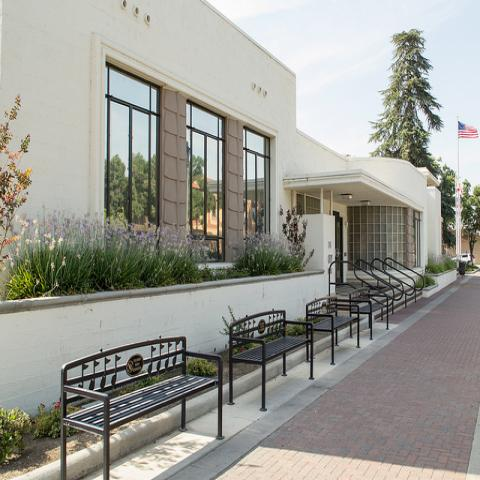car: (461, 253, 476, 264)
